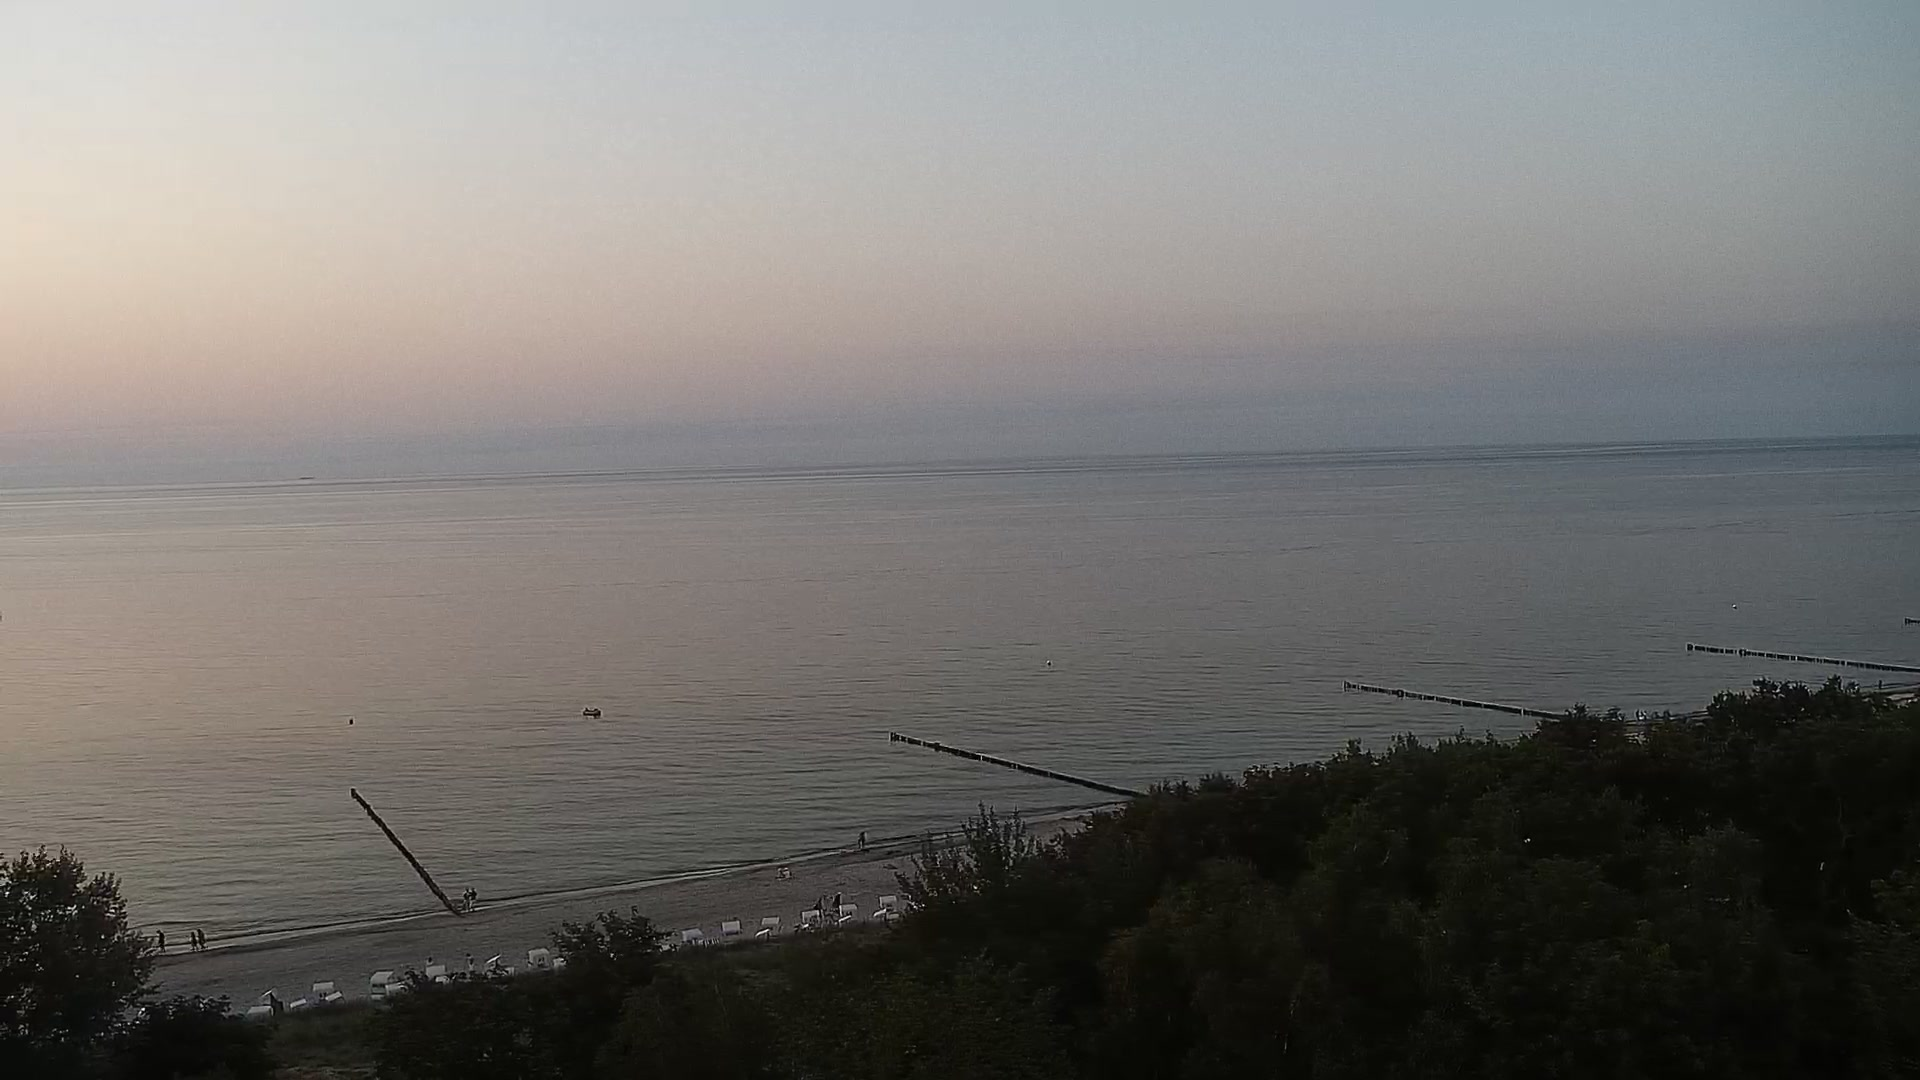human: (195, 927, 207, 949), (156, 929, 166, 952), (856, 827, 866, 850), (462, 886, 471, 912), (469, 885, 478, 913), (188, 931, 197, 952), (782, 865, 792, 880), (776, 865, 784, 878)
sea: (581, 706, 602, 718)
